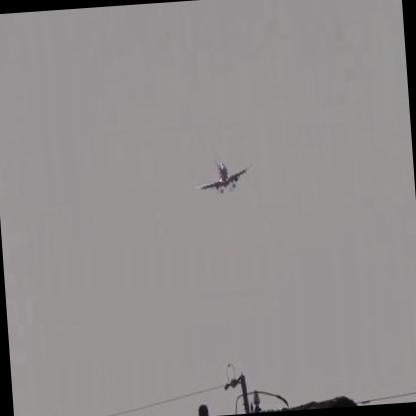plane: (187, 152, 259, 199)
